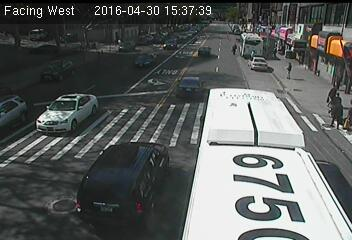neg: (79, 37, 90, 51), (112, 30, 123, 44)
pos: (328, 101, 348, 127), (284, 62, 297, 78), (230, 40, 240, 54), (334, 92, 341, 100)
